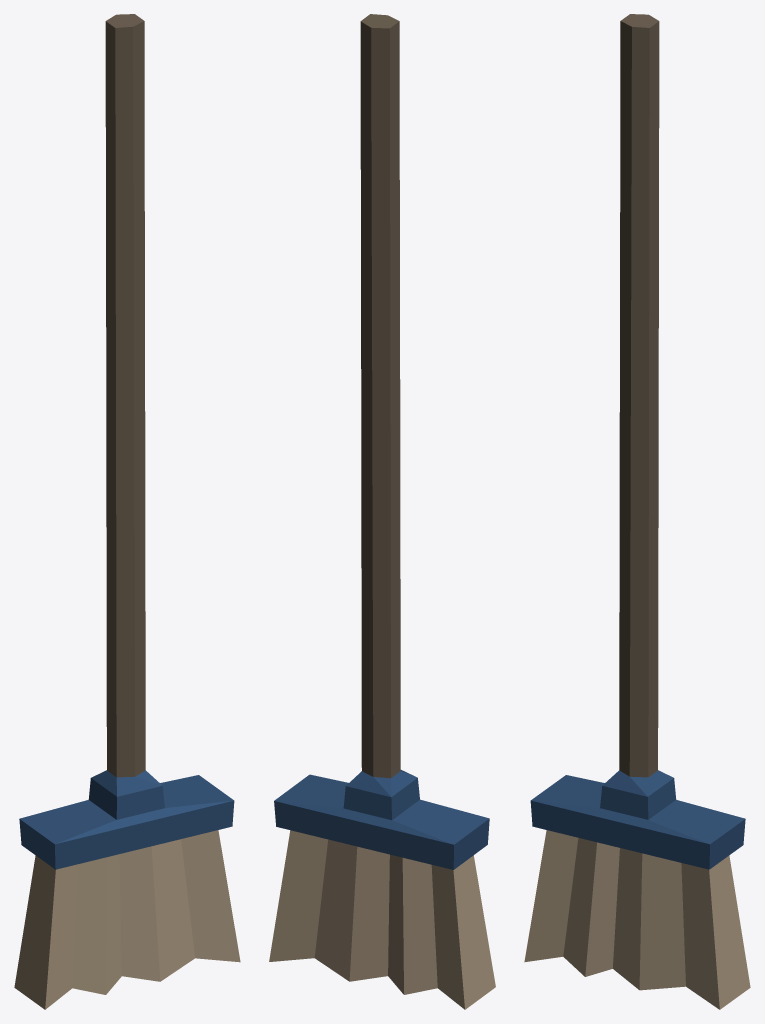
Rendered from SM_Prop_Broom_01.glb.
3 renders of one model, left to right at view 1: azimuth 30°, elevation 25°; view 2: azimuth 150°, elevation 25°; view 3: azimuth 330°, elevation 25°, orthographic.
Visible parts, largest first — view 1: SM_Prop_Broom_01; view 2: SM_Prop_Broom_01; view 3: SM_Prop_Broom_01.
Part boxes in pixels (left/top/right/bottom): SM_Prop_Broom_01: left=14, top=14, right=240, bottom=1009; SM_Prop_Broom_01: left=269, top=14, right=495, bottom=1009; SM_Prop_Broom_01: left=524, top=14, right=750, bottom=1009.
Bounding box in the file's own units: 0.2215 × 1.03 × 0.0697.
Materials: 1 (1 with a texture image).
